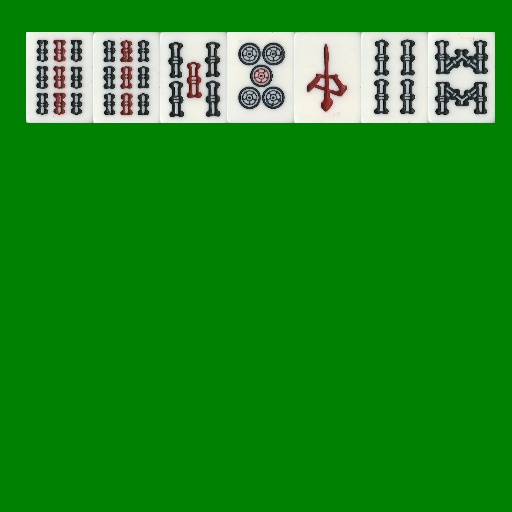4s: (361, 32, 428, 123)
5p: (227, 32, 294, 123)
5s: (160, 32, 227, 123)
8s: (428, 32, 495, 123)
9s: (26, 32, 93, 123), (93, 32, 160, 123)
tyun: (294, 32, 361, 123)
